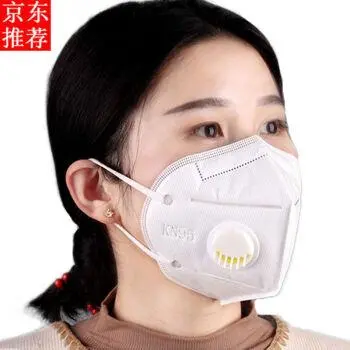withmask: (46, 7, 309, 311)
